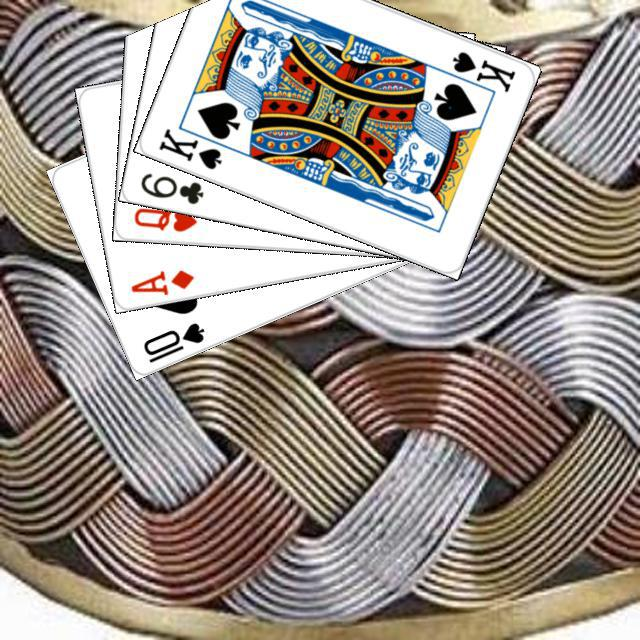10s: (138, 317, 206, 365)
6c: (135, 168, 206, 206)
Ad: (125, 265, 196, 297)
Ks: (437, 46, 517, 95), (153, 123, 224, 171)
Qh: (129, 203, 199, 234)
